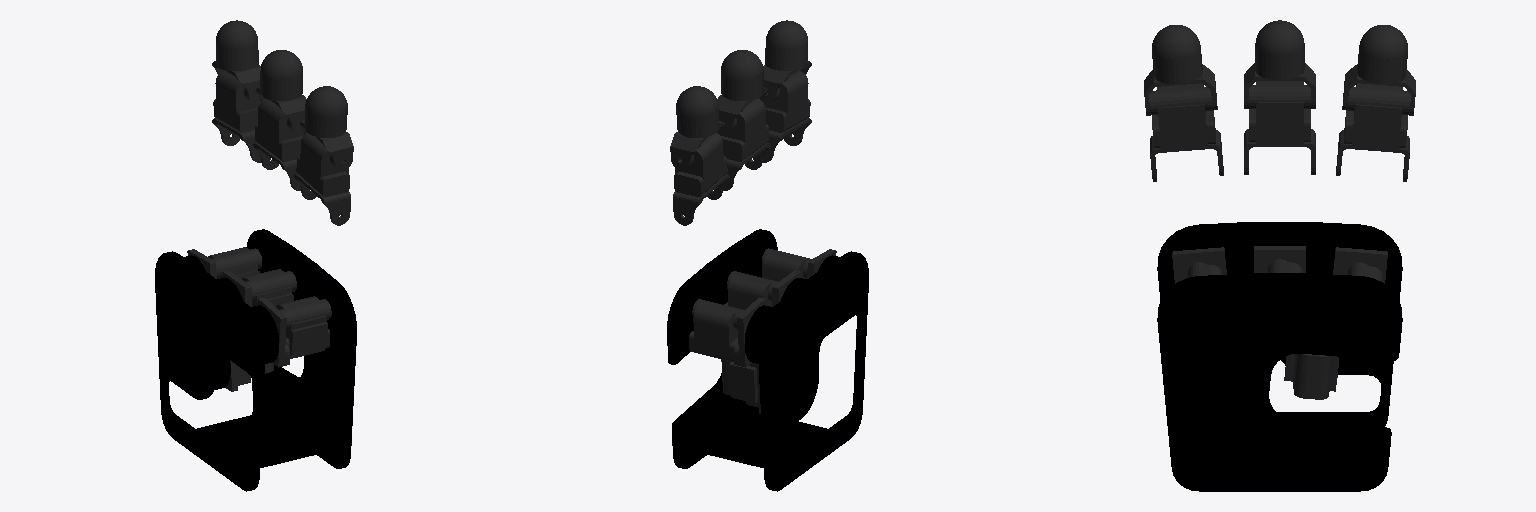
The robot description file, URDF, robot "kistar_hand":
<?xml version='1.0' encoding='utf-8'?>
<robot name="kistar_hand">

  
  <link name="mount">
    <collision>
      <geometry>
        <cylinder length="0.00999999955296517" radius="0.019931690767407417" /></geometry>
        <origin rpy="0 0 0" xyz="0 0 -0.007" />
    
    </collision>
    <inertial>
      <mass value="0.0" />
      <origin rpy="0 0 0" xyz="0 0 0" />
      <inertia ixx="0.0" ixy="0.0" ixz="0.0" iyy="0.0" iyz="0.0" izz="0.0" />
    </inertial>
    <visual>
      <geometry>
        <mesh filename="meshes/kistar/mount.STL" />
      </geometry>
      <material name="Grey">
        <color rgba="0.2 0.2 0.2 1" />
      </material>
    </visual>
  </link>

  
   <link name="palm">
    <collision>
      <geometry>
        <box size="0.04700000025331974 0.0895427018404007 0.08685353584587574" /></geometry>
        <origin rpy="0 0 0" xyz="0.012 0.00079 -0.02862" />
      
    </collision>
    <inertial>
	    <mass value="0.15476" />
	    <origin rpy="0 0 0" xyz="-0.01669 0.00079 -0.02862" />
	    <inertia ixx="0.00032705182" ixy="-0.00001050022" ixz="0.00005386046" iyy="0.00035100257" iyz="-0.00000337009" izz="0.00016323150" />
    </inertial>
    <visual>
      <geometry>
        <mesh filename="meshes/kistar/palm02.STL" />
      </geometry>
      <material name="Black">
        <color rgba="0 0 0 1" />
      </material>
    </visual>
  </link>



  
  <link name="thumb_basemotor">
    <!-- <collision>
      <geometry>
        <box size="0.02400000027120114 0.01919999998062849 0.024000000208616257" /></geometry>
    </collision> -->
    <inertial>
    	<mass value="0.01904" />
	    <origin rpy="0 0 0" xyz="0.01002 0.00044 0.00000" />
	    <inertia ixx="0.00000107197" ixy="0.00000008151" ixz="0.00000000000" iyy="0.00000344968" iyz="0.00000000000" izz="0.00000315305" />
    </inertial>
    <visual>
      <geometry>
        <mesh filename="meshes/kistar/thumb_basemotor.STL" />
      </geometry>
      <material name="Grey">
        <color rgba="0.2 0.2 0.2 1" />
      </material>
    </visual>
  </link>

  <link name="thumb_link_0">
    <collision>
	    <origin rpy="0 0 0" xyz="-0.00714 0.00000 0.02081" />
      <geometry>
        <box size="0.026284214574843645 0.026000000536441803 0.04048462910577655" /></geometry>
    </collision>
    <inertial>
	    <mass value="0.02423" />
	    <origin rpy="0 0 0" xyz="-0.00714 0.00000 0.02081" />
	    <inertia ixx="0.00001317338" ixy="0.00000000000" ixz="-0.00000386319" iyy="0.00001497641" iyz="0.00000000000" izz="0.00000318767" />
    </inertial>
    <visual>
      <geometry>
        <mesh filename="meshes/kistar/thumb_link_0.STL" />
      </geometry>
      <material name="Grey">
        <color rgba="0.2 0.2 0.2 1" />
      </material>
    </visual>
  </link>

  <link name="thumb_link_1">
    <collision>
	    <origin rpy="0 0 0" xyz="0.00043 0.00000 0.00345" />
      <geometry>
        <box size="0.013000000268220901 0.026000000536441803 0.01447937732003629" /></geometry>
    </collision>
    <inertial>
	  <mass value="0.00191" />
	    <origin rpy="0 0 0" xyz="0.00043 0.00000 0.00345" />
	    <inertia ixx="0.00000023689" ixy="0.00000000000" ixz="0.00000000784" iyy="0.00000007651" iyz="0.00000000000" izz="0.00000021019" />
    </inertial>
    <visual>
      <geometry>
        <mesh filename="meshes/kistar/thumb_link_1.STL" />
      </geometry>
      <material name="Grey">
        <color rgba="0.2 0.2 0.2 1" />
      </material>
    </visual>
  </link>

  <link name="thumb_link_2">
    <collision>
	    <origin rpy="0 0 0" xyz="-0.00154 0.00021 0.01842" />
      <geometry>
        <box size="0.013749999459832907 0.026100000366568565 0.042499997187405825" /></geometry>
    </collision>
    <inertial>
	    <mass value="0.01827" />
	    <origin rpy="0 0 0" xyz="-0.00154 0.00021 0.01842" />
	    <inertia ixx="0.00000796138" ixy="-0.00000001114" ixz="-0.00000053085" iyy="0.00000752132" iyz="0.00000001719" izz="0.00000105696" />
    </inertial>
    <visual>
      <geometry>
        <mesh filename="meshes/kistar/thumb_link_2.STL" />
      </geometry>
      <material name="Grey">
        <color rgba="0.2 0.2 0.2 1" />
      </material>
    </visual>
  </link>

  <link name="thumb_tip">
    <collision>
      <geometry>
        <mesh filename="meshes/kistar/thumb_tip.STL" /></geometry>
    </collision>
    <inertial>
	    <mass value="0.00719" />
	    <origin rpy="0 0 0" xyz="-0.00190 0.00000 0.01626" />
	    <inertia ixx="0.00000240986" ixy="0.00000000000" ixz="-0.00000023287" iyy="0.00000235111" iyz="0.00000000000" izz="0.00000036696" />
    </inertial>
    <visual>
      <geometry>
        <mesh filename="meshes/kistar/thumb_tip.STL" />
      </geometry>
      <material name="Grey">
        <color rgba="0.2 0.2 0.2 1" />
      </material>
    </visual>
  </link>
  
  <link name="index_basemotor">
    <!-- <collision>
      <geometry>
        <box size="0.028149999655596912 0.01919999998062849 0.024000000208616257" /></geometry>
    </collision> -->
    <inertial>
    	<mass value="0.01904" />
    	<origin rpy="0 0 0" xyz="0.01338 0.00095 -0.00207" />
    	<inertia ixx="0.00000121099" ixy="0.00000030359" ixz="-0.00000056482" iyy="0.00000548403" iyz="-0.00000003164" izz="0.00000507172" />
    </inertial>
    <visual>
      <geometry>
        <mesh filename="meshes/kistar/finger_basemotor.STL" />
      </geometry>
      <material name="Grey">
        <color rgba="0.2 0.2 0.2 1" />
      </material>
    </visual>
  </link>

  <link name="index_link_0">
    <collision>
	    <origin rpy="0 0 0" xyz="-0.00353 0.00000 0.00948" />
      <geometry>
        <box size="0.026000000536441803 0.026000000536441803 0.028453040402382612" /></geometry>
    </collision>
     <inertial>
	    <mass value="0.00473" />
	    <origin rpy="0 0 0" xyz="-0.00353 0.00000 0.00948" />
	    <inertia ixx="0.00000076951" ixy="0.00000000000" ixz="-0.00000009858" iyy="0.00000092515" iyz="0.00000000000" izz="0.00000062017" />
    </inertial>
    <visual>
      <geometry>
        <mesh filename="meshes/kistar/finger_link_0.STL" />
      </geometry>
      <material name="Grey">
        <color rgba="0.2 0.2 0.2 1" />
      </material>
    </visual>
  </link>

  <link name="index_link_1">
    <collision>
	    <origin rpy="0 0 0" xyz="-0.00166 0.00000 0.01675" />
      <geometry>
        <box size="0.013749999459832907 0.026100000366568565 0.042499999050050974" /></geometry>
    </collision>
    <inertial>
	    <mass value="0.03549" />
	    <origin rpy="0 0 0" xyz="-0.00166 0.00000 0.01675" />
	    <inertia ixx="0.00001607025" ixy="0.00000000000" ixz="-0.00000098913" iyy="0.00001510746" iyz="0.00000000000" izz="0.00000219008" />
    </inertial>
    <visual>
      <geometry>
        <mesh filename="meshes/kistar/finger_link_1.STL" />
      </geometry>
      <material name="Grey">
        <color rgba="0.2 0.2 0.2 1" />
      </material>
    </visual>
  </link>

  <link name="index_link_2">
    <collision>
	    <origin rpy="0 0 0" xyz="-0.00154 0.00021 0.01842" />
      <geometry>
        <box size="0.013750000391155481 0.02599999960511923 0.035698844119906425" /></geometry>
    </collision>
    <inertial>
	    <mass value="0.01827" />
	    <origin rpy="0 0 0" xyz="-0.00154 0.00021 0.01842" />
	    <inertia ixx="0.00000796138" ixy="-0.00000001114" ixz="-0.00000053085" iyy="0.00000752132" iyz="0.00000001719" izz="0.00000105696" />
    </inertial>
    <visual>
      <geometry>
        <mesh filename="meshes/kistar/finger_link_2.STL" />
      </geometry>
      <material name="Grey">
        <color rgba="0.2 0.2 0.2 1" />
      </material>
    </visual>
  </link>

  <link name="index_tip">
    <collision>
      <geometry>
        <mesh filename="meshes/kistar/finger_tip.STL" /></geometry>
    </collision>
    <inertial>
	    <mass value="0.00719" />
	    <origin rpy="0 0 0" xyz="-0.00190 0.00000 0.01626" />
	    <inertia ixx="0.00000240986" ixy="0.00000000000" ixz="-0.00000023287" iyy="0.00000235111" iyz="0.00000000000" izz="0.00000036696" />
    </inertial>
    <visual>
      <geometry>
        <mesh filename="meshes/kistar/finger_tip.STL" />
      </geometry>
      <material name="Grey">
        <color rgba="0.2 0.2 0.2 1" />
      </material>
    </visual>
  </link>

  <link name="middle_basemotor">
    <!-- <collision>
      <geometry>
        <box size="0.028149999655596912 0.01919999998062849 0.024000000208616257" /></geometry>
    </collision> -->
    <inertial>
    	<mass value="0.01904" />
    	<origin rpy="0 0 0" xyz="0.01338 0.00095 -0.00207" />
    	<inertia ixx="0.00000121099" ixy="0.00000030359" ixz="-0.00000056482" iyy="0.00000548403" iyz="-0.00000003164" izz="0.00000507172" />
    </inertial>
    <visual>
      <geometry>
        <mesh filename="meshes/kistar/finger_basemotor.STL" />
      </geometry>
      <material name="Grey">
        <color rgba="0.2 0.2 0.2 1" />
      </material>
    </visual>
  </link>

  <link name="middle_link_0">
    <collision>
	    <origin rpy="0 0 0" xyz="-0.00353 0.00000 0.00948" />
      <geometry>
        <box size="0.026000000536441803 0.026000000536441803 0.028453040402382612" /></geometry>
    </collision>
     <inertial>
	    <mass value="0.00473" />
	    <origin rpy="0 0 0" xyz="-0.00353 0.00000 0.00948" />
	    <inertia ixx="0.00000076951" ixy="0.00000000000" ixz="-0.00000009858" iyy="0.00000092515" iyz="0.00000000000" izz="0.00000062017" />
    </inertial>
    <visual>
      <geometry>
        <mesh filename="meshes/kistar/finger_link_0.STL" />
      </geometry>
      <material name="Grey">
        <color rgba="0.2 0.2 0.2 1" />
      </material>
    </visual>
  </link>

  <link name="middle_link_1">
    <collision>
	    <origin rpy="0 0 0" xyz="-0.00166 0.00000 0.01675" />
      <geometry>
        <box size="0.013749999459832907 0.026100000366568565 0.042499999050050974" /></geometry>
    </collision>
    <inertial>
	    <mass value="0.03549" />
	    <origin rpy="0 0 0" xyz="-0.00166 0.00000 0.01675" />
	    <inertia ixx="0.00001607025" ixy="0.00000000000" ixz="-0.00000098913" iyy="0.00001510746" iyz="0.00000000000" izz="0.00000219008" />
    </inertial>
    <visual>
      <geometry>
        <mesh filename="meshes/kistar/finger_link_1.STL" />
      </geometry>
      <material name="Grey">
        <color rgba="0.2 0.2 0.2 1" />
      </material>
    </visual>
  </link>

  <link name="middle_link_2">
    <collision>
	    <origin rpy="0 0 0" xyz="-0.00154 0.00021 0.01842" />
      <geometry>
        <box size="0.013750000391155481 0.02599999960511923 0.035698844119906425" /></geometry>
    </collision>
    <inertial>
	    <mass value="0.01827" />
	    <origin rpy="0 0 0" xyz="-0.00154 0.00021 0.01842" />
	    <inertia ixx="0.00000796138" ixy="-0.00000001114" ixz="-0.00000053085" iyy="0.00000752132" iyz="0.00000001719" izz="0.00000105696" />
    </inertial>
    <visual>
      <geometry>
        <mesh filename="meshes/kistar/finger_link_2.STL" />
      </geometry>
      <material name="Grey">
        <color rgba="0.2 0.2 0.2 1" />
      </material>
    </visual>
  </link>

  <link name="middle_tip">
    <collision>
      <geometry>
        <mesh filename="meshes/kistar/finger_tip.STL" /></geometry>
    </collision>
    <inertial>
	    <mass value="0.00719" />
	    <origin rpy="0 0 0" xyz="-0.00190 0.00000 0.01626" />
	    <inertia ixx="0.00000240986" ixy="0.00000000000" ixz="-0.00000023287" iyy="0.00000235111" iyz="0.00000000000" izz="0.00000036696" />
    </inertial>
    <visual>
      <geometry>
        <mesh filename="meshes/kistar/finger_tip.STL" />
      </geometry>
      <material name="Grey">
        <color rgba="0.2 0.2 0.2 1" />
      </material>
    </visual>
  </link>

  
  <link name="ring_basemotor">
    <!-- <collision>
      <geometry>
        <box size="0.028149999655596912 0.01919999998062849 0.024000000208616257" /></geometry>
    </collision> -->
    <inertial>
    	<mass value="0.01904" />
    	<origin rpy="0 0 0" xyz="0.01338 0.00095 -0.00207" />
    	<inertia ixx="0.00000121099" ixy="0.00000030359" ixz="-0.00000056482" iyy="0.00000548403" iyz="-0.00000003164" izz="0.00000507172" />
    </inertial>
    <visual>
      <geometry>
        <mesh filename="meshes/kistar/finger_basemotor.STL" />
      </geometry>
      <material name="Grey">
        <color rgba="0.2 0.2 0.2 1" />
      </material>
    </visual>
  </link>

  <link name="ring_link_0">
    <collision>
	    <origin rpy="0 0 0" xyz="-0.00353 0.00000 0.00948" />
      <geometry>
        <box size="0.026000000536441803 0.026000000536441803 0.028453040402382612" /></geometry>
    </collision>
    <inertial>
	    <mass value="0.00473" />
	    <origin rpy="0 0 0" xyz="-0.00353 0.00000 0.00948" />
	    <inertia ixx="0.00000076951" ixy="0.00000000000" ixz="-0.00000009858" iyy="0.00000092515" iyz="0.00000000000" izz="0.00000062017" />
    </inertial>
    <visual>
      <geometry>
        <mesh filename="meshes/kistar/finger_link_0.STL" />
      </geometry>
      <material name="Grey">
        <color rgba="0.2 0.2 0.2 1" />
      </material>
    </visual>
  </link>

  <link name="ring_link_1">
    <collision>
	    <origin rpy="0 0 0" xyz="-0.00166 0.00000 0.01675" />
      <geometry>
        <box size="0.013749999459832907 0.026100000366568565 0.042499999050050974" /></geometry>
    </collision>
    <inertial>
	    <mass value="0.03549" />
	    <origin rpy="0 0 0" xyz="-0.00166 0.00000 0.01675" />
	    <inertia ixx="0.00001607025" ixy="0.00000000000" ixz="-0.00000098913" iyy="0.00001510746" iyz="0.00000000000" izz="0.00000219008" />
    </inertial>
    <visual>
      <geometry>
        <mesh filename="meshes/kistar/finger_link_1.STL" />
      </geometry>
      <material name="Grey">
        <color rgba="0.2 0.2 0.2 1" />
      </material>
    </visual>
  </link>

  <link name="ring_link_2">
    <collision>
	    <origin rpy="0 0 0" xyz="-0.00154 0.00021 0.01842" />
      <geometry>
        <box size="0.013750000391155481 0.02599999960511923 0.035698844119906425" /></geometry>
    </collision>
    <inertial>
	    <mass value="0.01827" />
	    <origin rpy="0 0 0" xyz="-0.00154 0.00021 0.01842" />
	    <inertia ixx="0.00000796138" ixy="-0.00000001114" ixz="-0.00000053085" iyy="0.00000752132" iyz="0.00000001719" izz="0.00000105696" />
    </inertial>
    <visual>
      <geometry>
        <mesh filename="meshes/kistar/finger_link_2.STL" />
      </geometry>
      <material name="Grey">
        <color rgba="0.2 0.2 0.2 1" />
      </material>
    </visual>
  </link>

  <link name="ring_tip">
    <collision>
      <geometry>
        <mesh filename="meshes/kistar/finger_tip.STL" />
      </geometry>
    </collision>
    <inertial>
	    <mass value="0.00719" />
	    <origin rpy="0 0 0" xyz="-0.00190 0.00000 0.01626" />
	    <inertia ixx="0.00000240986" ixy="0.00000000000" ixz="-0.00000023287" iyy="0.00000235111" iyz="0.00000000000" izz="0.00000036696" />
    </inertial>
    <visual>
      <geometry>
        <mesh filename="meshes/kistar/finger_tip.STL" />
      </geometry>
      <material name="Grey">
        <color rgba="0.2 0.2 0.2 1" />
      </material>
    </visual>
  </link>

<joint name="kistar_mount_joint" type="fixed">
  <origin rpy="0. 0. 0." xyz="-0.02325 0. 0.071" />
  <parent link="mount" />
  <child link="palm" />
</joint>


 
 <joint name="thumb_base_joint" type="fixed">
  <origin rpy="-0.0873 0. 0." xyz="0. 0.01224 -0.02988" />
  <parent link="palm" />
  <child link="thumb_basemotor" />
</joint>

<joint name="thumb_joint_0" type="revolute">
  <axis xyz="0 1 0" />
  <limit effort="0.2" lower="0." upper="1.5708" velocity="6.283" />
  <origin rpy="-1.5708 0. 0." xyz="0.0197 0.002 0." />
  <parent link="thumb_basemotor" />
  <child link="thumb_link_0" />
  <dynamics damping="0.0414019" friction="0.0523963" />
</joint>

<joint name="thumb_joint_1" type="revolute">
  <axis xyz="0 0 1" />
  <limit effort="0.2" lower="-1.5708" upper="1.5708" velocity="6.283" />
  <origin rpy="0. 0. 0." xyz="-0.002 0. 0.036" />
  <parent link="thumb_link_0" />
  <child link="thumb_link_1" />
  <dynamics damping="0.00587541" friction="0.0150275" />
</joint>
<joint name="thumb_joint_2" type="revolute">
  <axis xyz="0 1 0" />
  <limit effort="0.2" lower="0" upper="1.5708" velocity="6.283" />
  <origin rpy="0. 0. 0." xyz="0.002 0. 0.0102" />
  <parent link="thumb_link_1" />
  <child link="thumb_link_2" />
  <dynamics damping="0.010638" friction="0.00616359" />
</joint>
<joint name="thumb_joint_3" type="revolute">
  <axis xyz="0 1 0" />
  <limit effort="0.2" lower="0" upper="1.5708" velocity="6.283" />
  <origin rpy="0. 0. 0." xyz="0. 0. 0.0335" />
  <parent link="thumb_link_2" />
  <child link="thumb_tip" />
  <dynamics damping="0.0226948" friction="0.0227036" />
</joint>

<joint name="index_base_joint" type="fixed">
  <origin rpy="-0.0873 0. 0." xyz="0. 0.02883 -0.00126" />
  <parent link="palm" />
  <child link="index_basemotor" />
</joint>

<joint name="index_joint_0" type="revolute">
  <axis xyz="1 0 0" />
  <limit effort="0.2" lower="-0.261799" upper="0.261799" velocity="6.283" />
  <origin rpy="-0. 0. 0." xyz="0.02325 0. 0.0047" />
  <parent link="index_basemotor" />
  <child link="index_link_0" />
  <dynamics damping="0.0414019" friction="0.0523963" />
</joint>
<joint name="index_joint_1" type="revolute">
  <axis xyz="0 1 0" />
  <limit effort="0.2" lower="0" upper="1.5708" velocity="6.283" />
  <origin rpy="0. 0. 0." xyz="0.002 0. 0.019" />
  <parent link="index_link_0" />
  <child link="index_link_1" />
  <dynamics damping="0.00587541" friction="0.0150275" />
</joint>
<joint name="index_joint_2" type="revolute">
  <axis xyz="0 1 0" />
  <limit effort="0.2" lower="0" upper="1.5708" velocity="6.283" />
  <origin rpy="0. 0. 0." xyz="0. 0. 0.0335" />
  <parent link="index_link_1" />
  <child link="index_link_2" />
  <dynamics damping="0.010638" friction="0.00616359" />
</joint>
<joint name="index_joint_3" type="revolute">
  <axis xyz="0 1 0" />
  <limit effort="0.2" lower="0" upper="1.5708" velocity="6.283" />
  <origin rpy="0. 0. 0." xyz="0. 0. 0.0267" />
  <parent link="index_link_2" />
  <child link="index_tip" />
  <dynamics damping="0.0226948" friction="0.0227036" />
</joint>

<joint name="middle_base_joint" type="fixed">
  <origin rpy="0. 0. 0." xyz="0. 0. 0." />
  <parent link="palm" />
  <child link="middle_basemotor" />
</joint>

<joint name="middle_joint_0" type="revolute">
  <axis xyz="1 0 0" />
  <limit effort="0.2" lower="-0.261799" upper="0.261799" velocity="6.283" />
  <origin rpy="0. 0. 0." xyz="0.02325 0. 0.0047" />
  <parent link="middle_basemotor" />
  <child link="middle_link_0" />
  <dynamics damping="0.0414019" friction="0.0523963" />
</joint>

<joint name="middle_joint_1" type="revolute">
  <axis xyz="0 1 0" />
  <limit effort="0.2" lower="0" upper="1.5708" velocity="6.283" />
  <origin rpy="0. 0. 0." xyz="0.002 0. 0.019" />
  <parent link="middle_link_0" />
  <child link="middle_link_1" />
  <dynamics damping="0.00587541" friction="0.0150275" />
</joint>

<joint name="middle_joint_2" type="revolute">
  <axis xyz="0 1 0" />
  <limit effort="0.2" lower="0" upper="1.5708" velocity="6.283" />
  <origin rpy="0 0 0" xyz="0. 0. 0.0335" />
  <parent link="middle_link_1" />
  <child link="middle_link_2" />
  <dynamics damping="0.010638" friction="0.00616359" />
</joint>

<joint name="middle_joint_3" type="revolute">
  <axis xyz="0 1 0" />
  <limit effort="0.2" lower="0" upper="1.5708" velocity="6.283" />
  <origin rpy="0 0 0" xyz="0. 0. 0.0267" />
  <parent link="middle_link_2" />
  <child link="middle_tip" />
  <dynamics damping="0.0226948" friction="0.0227036" />
</joint>
 
<joint name="ring_base_joint" type="fixed">
  <origin rpy="0.0873 0. 0." xyz="0. -0.02883 -0.00126" />
  <parent link="palm" />
  <child link="ring_basemotor" />
</joint>

<joint name="ring_joint_0" type="revolute">
  <axis xyz="1 0 0" />
  <limit effort="0.2" lower="-0.261799" upper="0.261799" velocity="6.283" />
  <origin rpy="-0. 0. 0." xyz="0.02325 0. 0.0047" />
  <parent link="ring_basemotor" />
  <child link="ring_link_0" />
  <dynamics damping="0.0414019" friction="0.0523963" />
</joint>
<joint name="ring_joint_1" type="revolute">
  <axis xyz="0 1 0" />
  <limit effort="0.2" lower="0" upper="1.5708" velocity="6.283" />
  <origin rpy="0. 0. 0." xyz="0.002 0. 0.019" />
  <parent link="ring_link_0" />
  <child link="ring_link_1" />
  <dynamics damping="0.00587541" friction="0.0150275" />
</joint>
<joint name="ring_joint_2" type="revolute">
  <axis xyz="0 1 0" />
  <limit effort="0.2" lower="0" upper="1.5708" velocity="6.283" />
  <origin rpy="0. 0. 0." xyz="0. 0. 0.0335" />
  <parent link="ring_link_1" />
  <child link="ring_link_2" />
  <dynamics damping="0.010638" friction="0.00616359" />
</joint>
<joint name="ring_joint_3" type="revolute">
  <axis xyz="0 1 0" />
  <limit effort="0.2" lower="0" upper="1.5708" velocity="6.283" />
  <origin rpy="0. 0. 0." xyz="0. 0. 0.0267" />
  <parent link="ring_link_2" />
  <child link="ring_tip" />
  <dynamics damping="0.0226948" friction="0.0227036" />
</joint>

</robot>

--- Render facts (derived) ---
Views: 3 orthographic renders of the robot side by side, from view 1: azimuth 30°, elevation 25°; view 2: azimuth 150°, elevation 25°; view 3: azimuth 270°, elevation 25°.
Robot: kistar_hand — 22 links, 21 joints (16 revolute, 5 fixed); root link mount; default pose: every joint at zero.
Visible links, largest first — view 1: palm, ring_basemotor, ring_link_2, ring_tip, middle_tip, index_link_2, middle_link_2, index_tip, middle_basemotor, index_basemotor; view 2: palm, index_basemotor, index_link_2, index_tip, middle_tip, ring_link_2, middle_link_2, ring_tip, middle_basemotor, ring_basemotor, thumb_basemotor; view 3: palm, index_link_2, ring_link_2, middle_link_2, middle_tip, index_tip, ring_tip, thumb_basemotor, index_basemotor, ring_basemotor, middle_basemotor.
Link boxes in pixels (x1,y1,x2,y2): palm: [155, 229, 356, 491]; ring_basemotor: [258, 296, 331, 367]; ring_link_2: [294, 133, 350, 225]; ring_tip: [299, 86, 353, 170]; middle_tip: [255, 50, 306, 133]; index_link_2: [212, 70, 260, 162]; middle_link_2: [253, 98, 303, 190]; index_tip: [212, 20, 260, 103]; middle_basemotor: [223, 269, 296, 306]; index_basemotor: [187, 247, 261, 278]; palm: [667, 229, 868, 491]; index_basemotor: [689, 297, 765, 367]; index_link_2: [673, 133, 729, 225]; index_tip: [670, 86, 724, 170]; middle_tip: [717, 50, 768, 133]; ring_link_2: [763, 70, 811, 162]; middle_link_2: [720, 98, 770, 190]; ring_tip: [763, 20, 811, 103]; middle_basemotor: [724, 270, 800, 309]; ring_basemotor: [762, 248, 836, 281]; thumb_basemotor: [721, 359, 760, 413]; palm: [1157, 222, 1402, 491]; index_link_2: [1336, 83, 1410, 181]; ring_link_2: [1149, 83, 1223, 181]; middle_link_2: [1244, 81, 1315, 174]; middle_tip: [1244, 20, 1315, 108]; index_tip: [1342, 25, 1415, 115]; ring_tip: [1144, 25, 1217, 115]; thumb_basemotor: [1284, 354, 1338, 399]; index_basemotor: [1333, 247, 1387, 283]; ring_basemotor: [1172, 247, 1226, 283]; middle_basemotor: [1254, 246, 1305, 272].
Size in the robot's own frame: 0.047 by 0.0992 by 0.1838 metres.
11 mesh visuals loaded from 12 distinct referenced files (5 binary STL); not drawn: 11 (reference not matched to a file when rendering).
